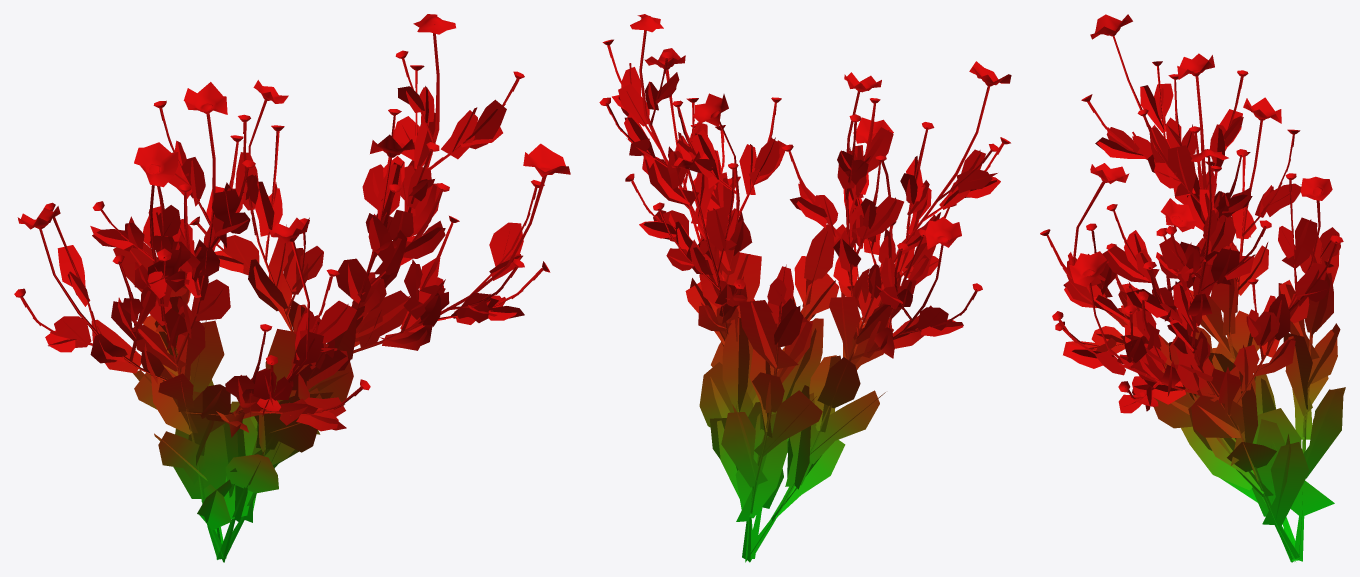
The model's file is Chamomile_LOD1_Var3_ujcnejvja.fbx.
The picture shows the model from 3 angles, left to right: view 1: azimuth 30°, elevation 25°; view 2: azimuth 150°, elevation 25°; view 3: azimuth 270°, elevation 25°; orthographic projection. The views are drawn at different scales.
Visible parts, largest first — view 1: _gok5_Var3_LOD1; view 2: _gok5_Var3_LOD1; view 3: _gok5_Var3_LOD1.
Part boxes in pixels (x1,y1,x2,y2): _gok5_Var3_LOD1: (14, 14, 570, 562); _gok5_Var3_LOD1: (599, 14, 1011, 562); _gok5_Var3_LOD1: (1040, 14, 1345, 562).
Size of the model in its own units: 53.37 by 58.77 by 33.62.
